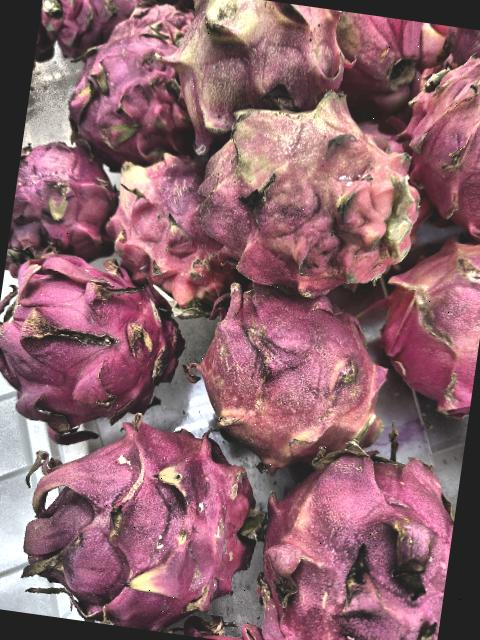buah-naga-belum-matang: (184, 93, 426, 294), (186, 290, 398, 468), (96, 151, 261, 318), (156, 0, 354, 129)
buah-naga-matang: (15, 428, 274, 632), (243, 432, 462, 640), (0, 233, 201, 425), (57, 32, 204, 171), (384, 235, 480, 414), (6, 143, 132, 271), (392, 67, 480, 234), (322, 10, 450, 113), (39, 0, 127, 38), (115, 3, 196, 44)
